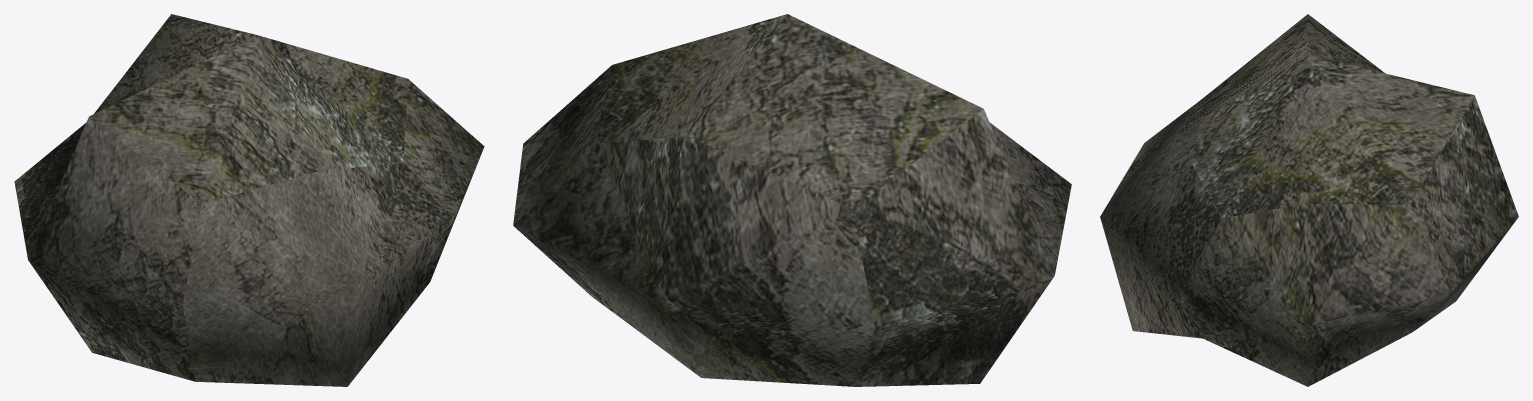
File: kivi1.fbx
3 renders of one model, left to right at view 1: azimuth 30°, elevation 25°; view 2: azimuth 150°, elevation 25°; view 3: azimuth 270°, elevation 25°, orthographic. The views are drawn at different scales.
Parts seen in each view (by area): view 1: Cube; view 2: Cube; view 3: Cube.
Boxes of the visible parts, bbox=[...] form: Cube: bbox=[14, 14, 484, 386]; Cube: bbox=[513, 14, 1071, 386]; Cube: bbox=[1100, 14, 1518, 386].
Bounding box in the file's own units: 493 × 316 × 405.
Materials: 1 (1 with a texture image).
